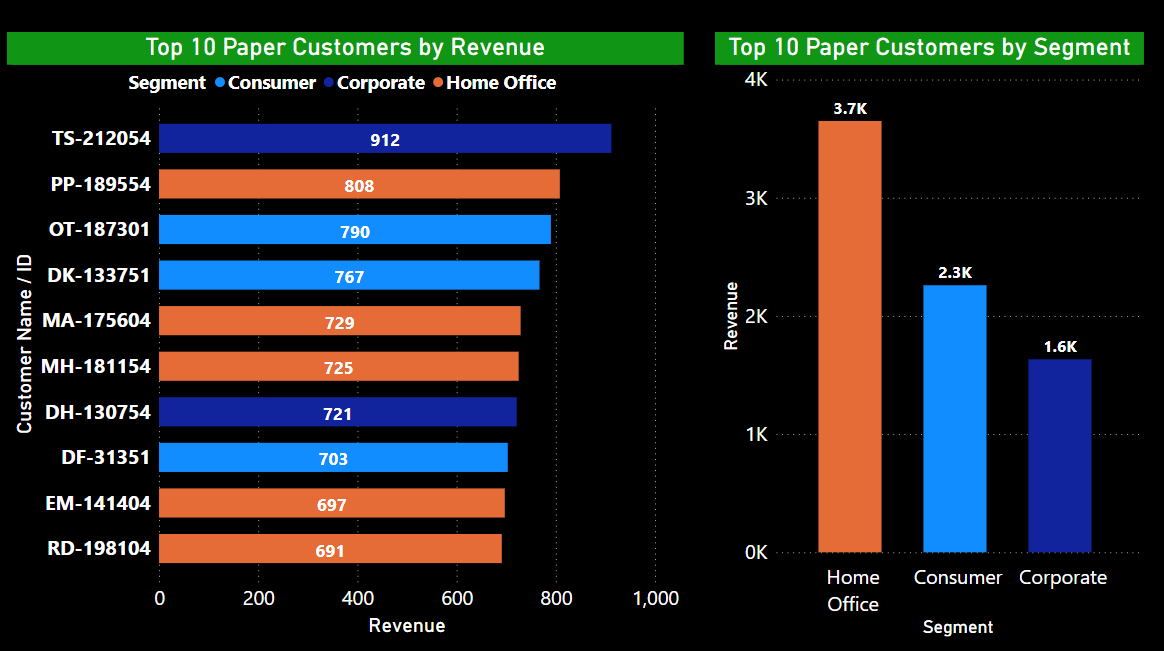

This screenshot's page, from the dashboard's own definition file:
{"tool":"powerbi","page":{"name":"10 paper Cust. - Revenue - Segm.","canvas":[1280,720],"ordinal":0},"visuals":[{"type":"barChart","title":"Top 10 Paper Customers by Revenue","fields":{"Category":["order.Customer_ID"],"Y":["Sum(order.Sales)"],"Series":["customer_segment.Segment"]},"box":[16.2,45.3,729.7,656.9],"z":0},{"type":"columnChart","title":"Top 10 Paper Customers by Segment","fields":{"Category":["customer_segment.Segment"],"Y":["Sum(order.Sales)"]},"box":[779.9,45.3,462.7,656.9],"z":1000}]}

Visuals, with their boxes in screenshot pixels (x1, y1, x2, y2), scaled from the page's 1280x720 canvas onto the 1164x651 screenshot:
"Top 10 Paper Customers by Revenue" barChart: (left=15, top=41, right=678, bottom=635)
"Top 10 Paper Customers by Segment" columnChart: (left=709, top=41, right=1130, bottom=635)
